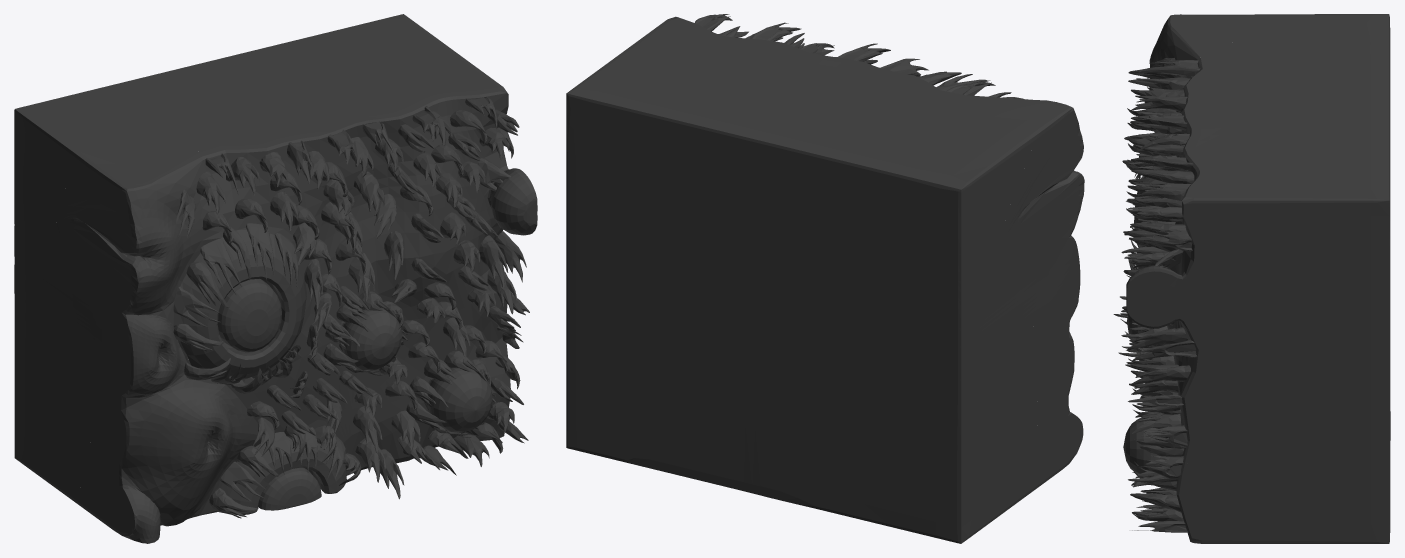
The model's file is sharedassets97.glb.
3 renders of one model, left to right at view 1: azimuth 30°, elevation 25°; view 2: azimuth 150°, elevation 25°; view 3: azimuth 270°, elevation 25°, orthographic. The views are drawn at different scales.
Parts seen in each view (by area): view 1: 0004_Tongue__300695, 0003_Filiform papillae__300694, 0005_Lingual tonsils__300696, 0000_Circumvallate _vallate_ papillae__300692, 0001_Fungiform papillae__300691; view 2: 0004_Tongue__300695, 0005_Lingual tonsils__300696, 0003_Filiform papillae__300694; view 3: 0004_Tongue__300695, 0003_Filiform papillae__300694, 0001_Fungiform papillae__300691, 0005_Lingual tonsils__300696.
Boxes of the visible parts, x1,y1,x2,y2 form: 0004_Tongue__300695: (14, 14, 510, 512); 0003_Filiform papillae__300694: (173, 97, 529, 518); 0005_Lingual tonsils__300696: (55, 143, 253, 543); 0000_Circumvallate _vallate_ papillae__300692: (173, 230, 346, 514); 0001_Fungiform papillae__300691: (340, 168, 537, 432); 0004_Tongue__300695: (566, 16, 1040, 543); 0005_Lingual tonsils__300696: (945, 95, 1084, 494); 0003_Filiform papillae__300694: (695, 14, 1024, 99); 0004_Tongue__300695: (1167, 14, 1390, 543); 0003_Filiform papillae__300694: (1113, 58, 1200, 532); 0001_Fungiform papillae__300691: (1123, 265, 1182, 477); 0005_Lingual tonsils__300696: (1138, 14, 1240, 268).
Size of the model in its own units: 4.38 by 3.83 by 2.74.
1 material, 1 textured.
